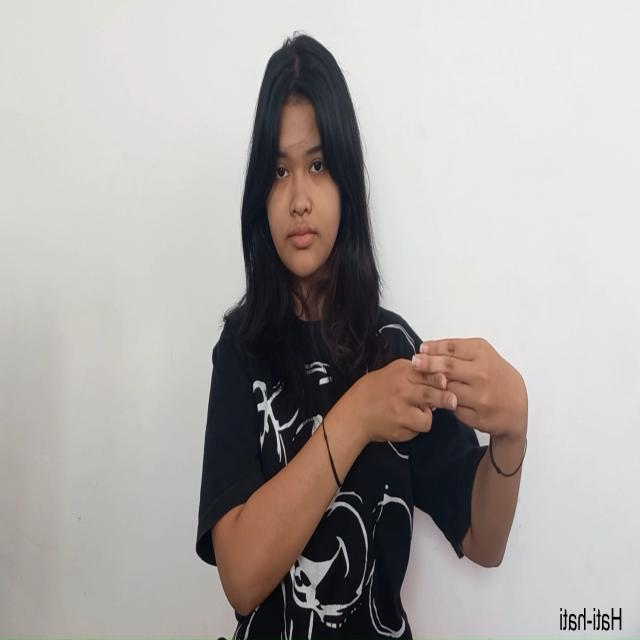Hati-hati -BISINDO-: (355, 331, 531, 454)
